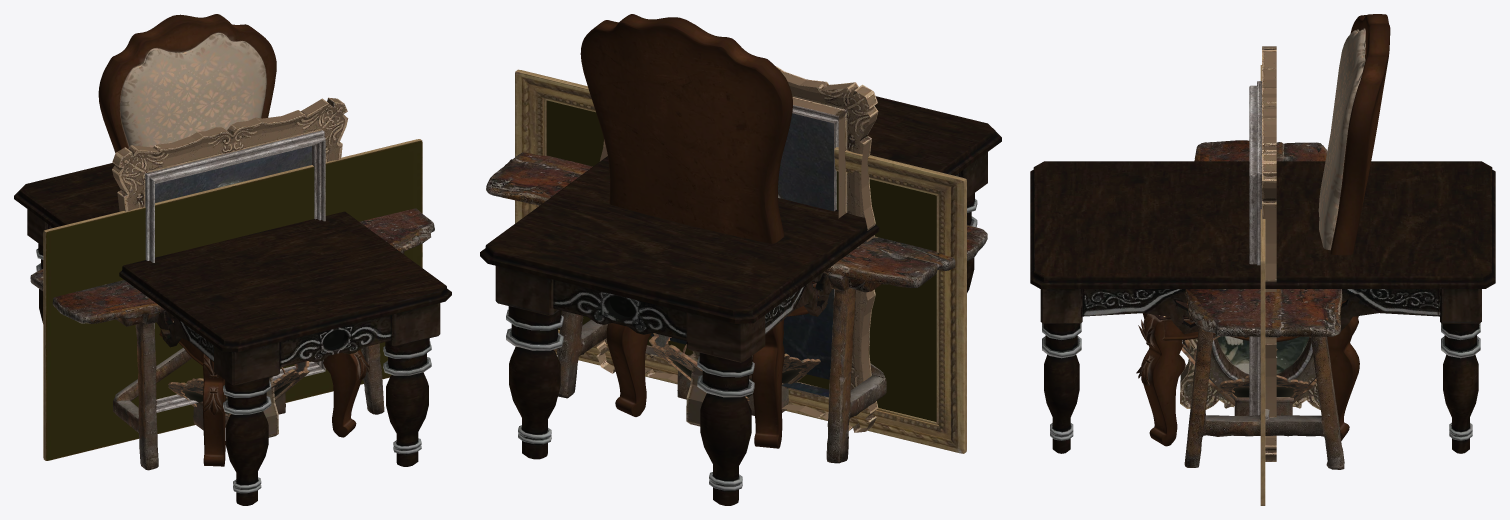
File: props.glb
The picture shows the model from 3 angles, left to right: view 1: azimuth 30°, elevation 25°; view 2: azimuth 150°, elevation 25°; view 3: azimuth 270°, elevation 25°; orthographic projection. The views are drawn at different scales.
Parts seen in each view (by area): view 1: sideboard, painting-small, armchair, painting-large, desk, chandelier, painting-square; view 2: sideboard, armchair, painting-small, painting-large, desk, chandelier, painting-square, crate; view 3: sideboard, armchair, desk, painting-large, painting-square, painting-small, chandelier, crate.
Part boxes in pixels (<box>): sideboard: <box>14,163,451,505</box>; painting-small: <box>43,139,422,460</box>; armchair: <box>98,14,370,466</box>; painting-large: <box>112,97,348,412</box>; desk: <box>30,208,434,470</box>; chandelier: <box>168,361,309,418</box>; painting-square: <box>263,376,278,437</box>; sideboard: <box>480,79,1001,505</box>; armchair: <box>580,14,827,448</box>; painting-small: <box>515,69,966,453</box>; painting-large: <box>596,66,878,432</box>; desk: <box>486,152,987,463</box>; chandelier: <box>649,333,820,401</box>; painting-square: <box>686,351,752,426</box>; crate: <box>677,353,788,415</box>; sideboard: <box>1030,161,1495,453</box>; armchair: <box>1136,14,1390,446</box>; desk: <box>1182,140,1344,469</box>; painting-large: <box>1249,46,1276,461</box>; painting-square: <box>1180,335,1320,410</box>; painting-small: <box>1260,65,1265,505</box>; chandelier: <box>1181,336,1316,406</box>; crate: <box>1234,397,1293,415</box>.
Bounding box in the file's own units: 2 × 1.81 × 2.
11 materials, 10 textured.
